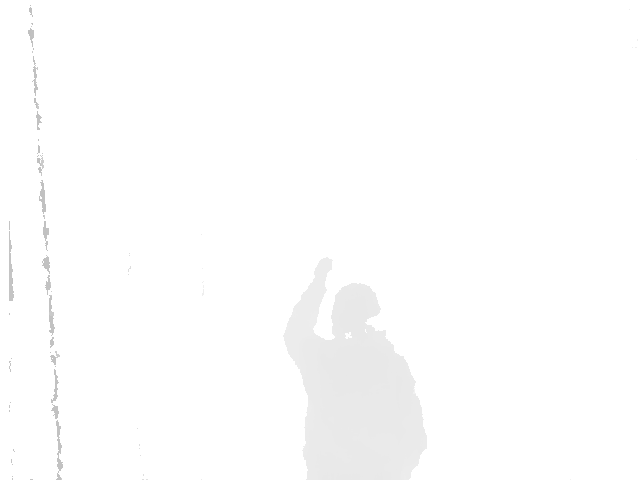hand: (302, 255, 335, 310)
head: (325, 284, 383, 345)
person: (284, 254, 428, 480)
